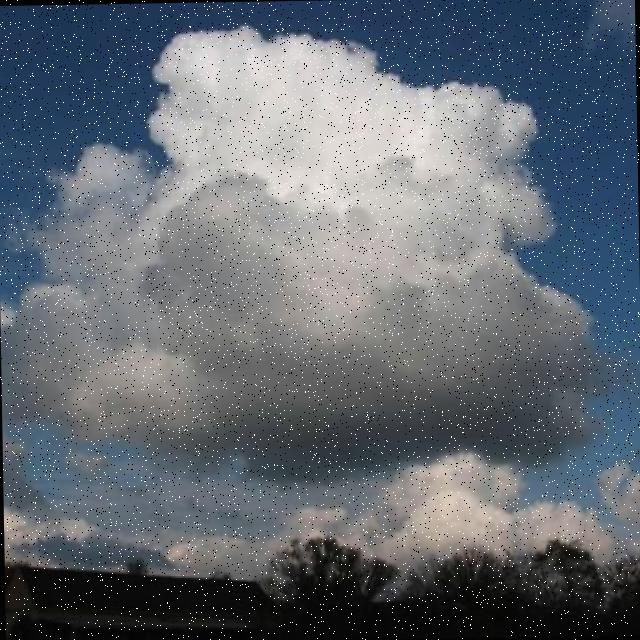Cu: (10, 8, 623, 489)
